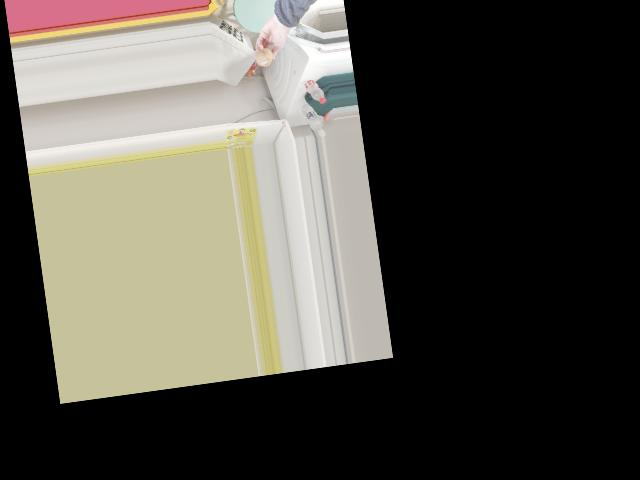sweet_potato: (255, 44, 274, 66)
